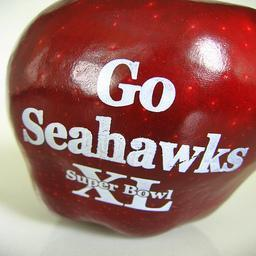apple: (5, 1, 254, 241)
